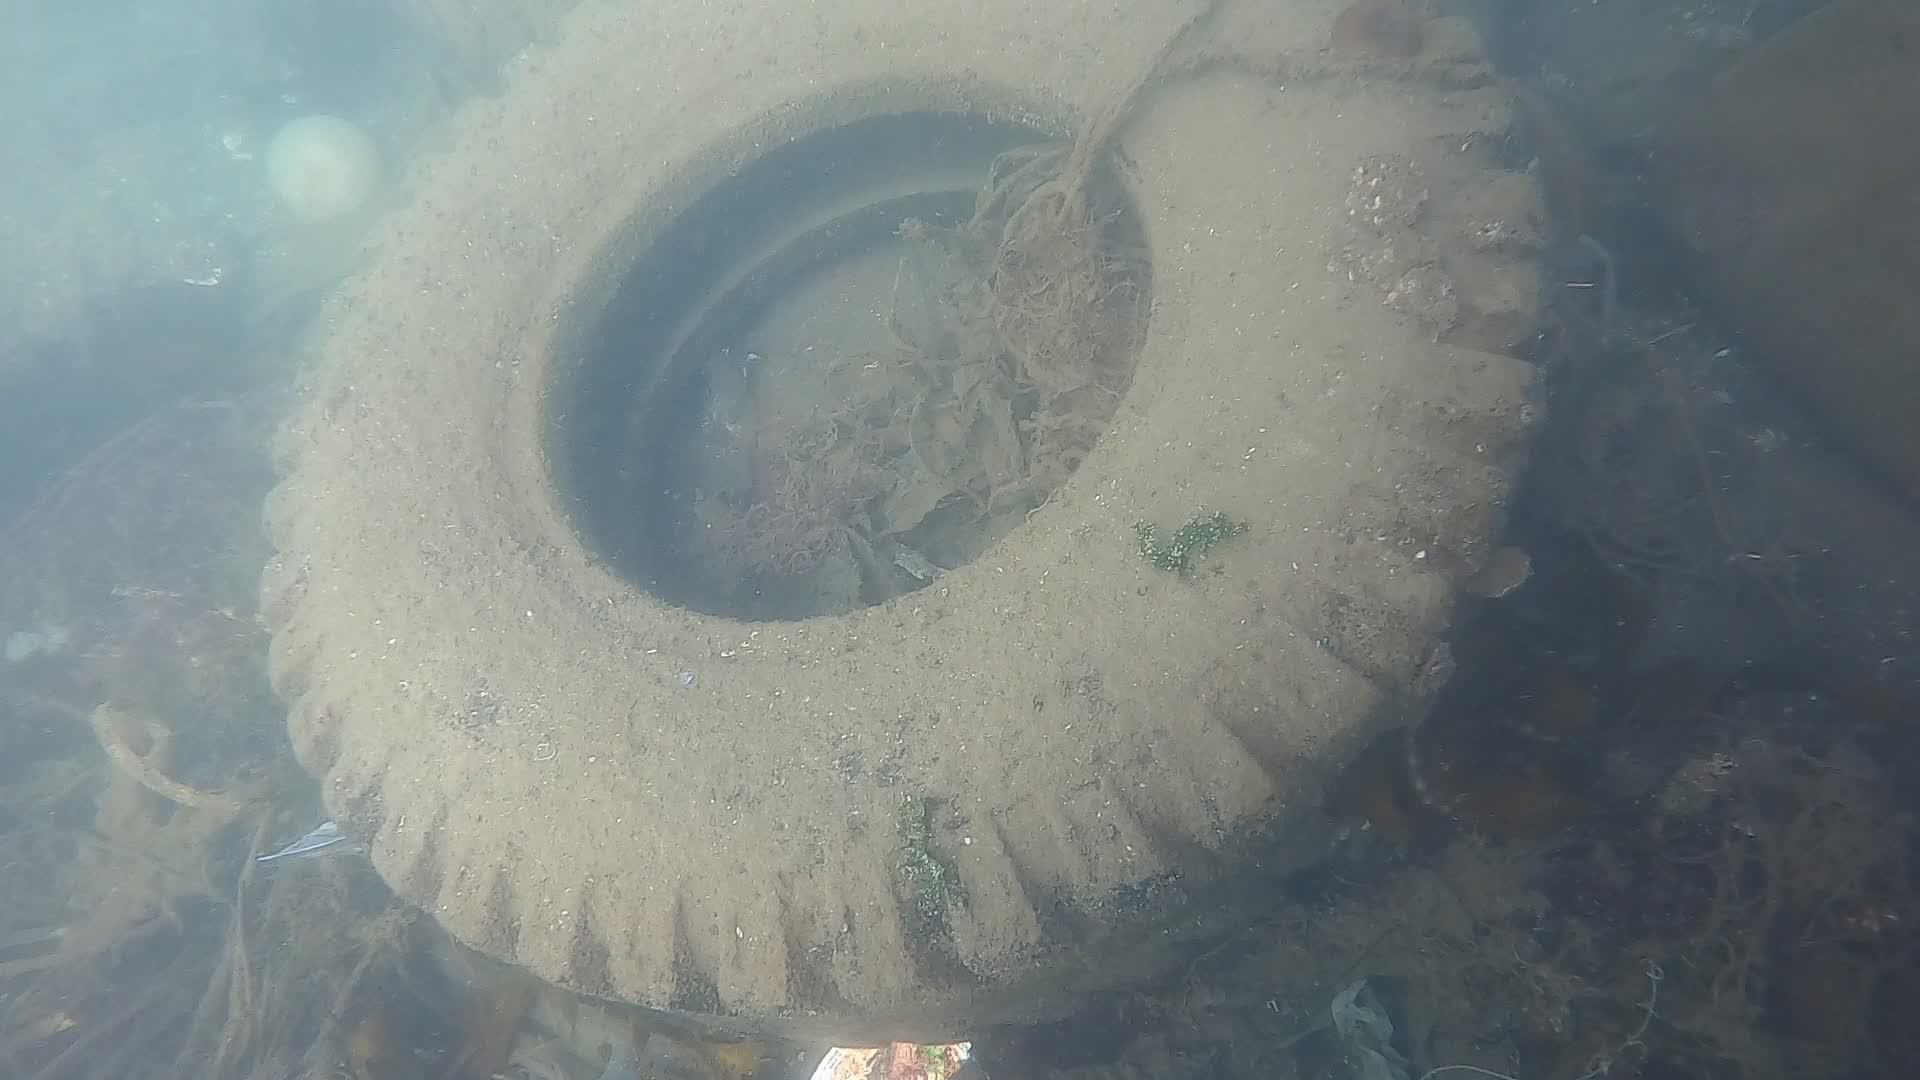tire: (251, 0, 1545, 1042)
